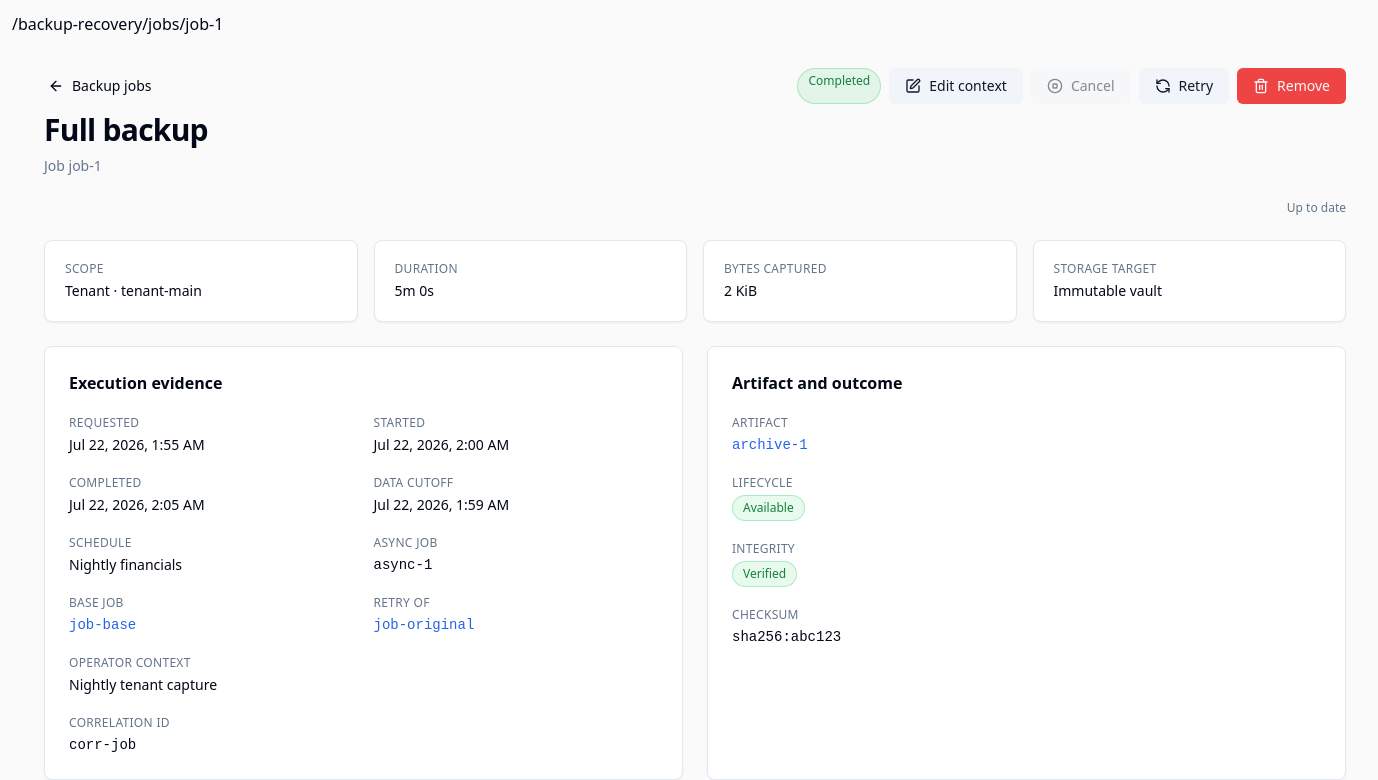
BackupJobDetailPage › renders job evidence, command authorization, and routes linked records
This screenshot has width=1378, height=780.
Expected: the heading "Full backup" is shown, [44,112,208,148]
Expected: the text "Immutable vault" is shown, [1054,281,1162,300]
Step 1. Click the button "Retry" → (1184, 86), box [1138,68,1229,104]
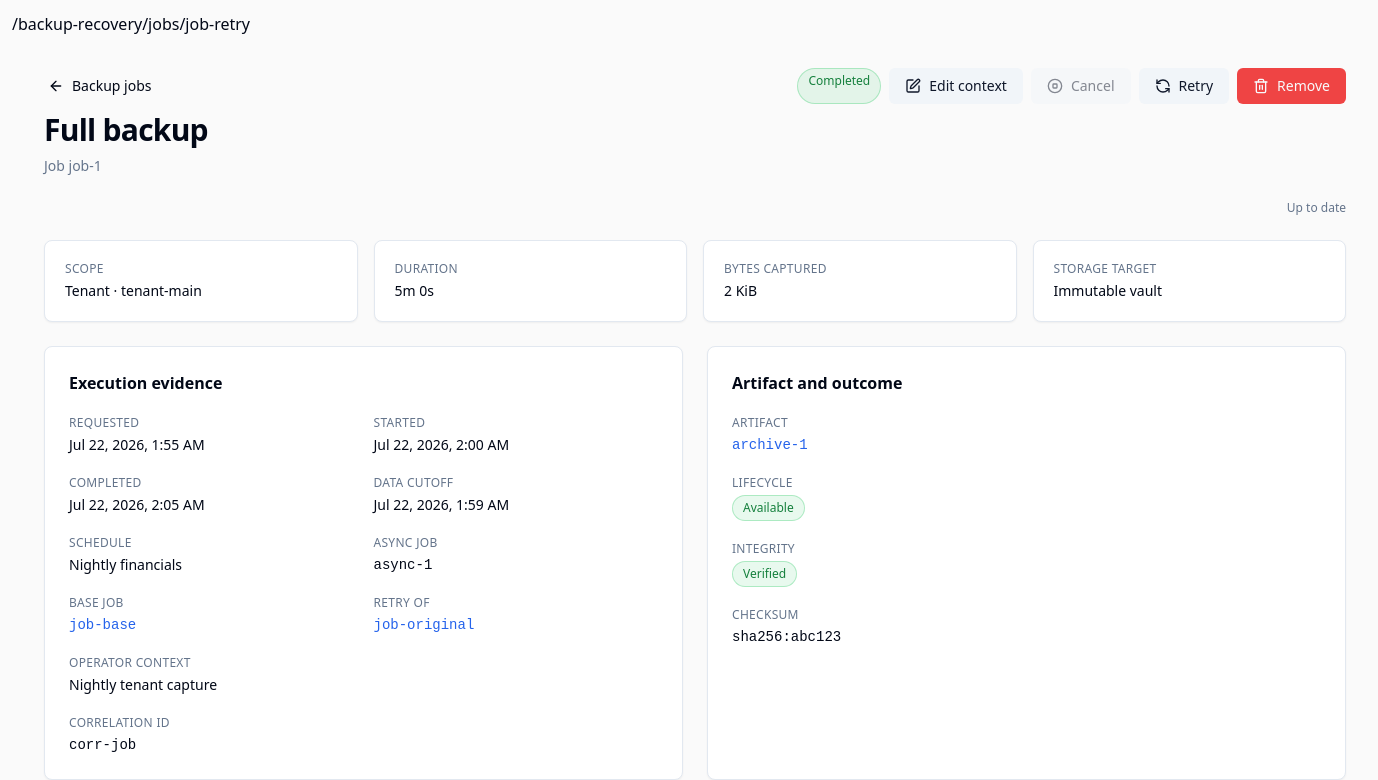
Result: the text named "Current route" reads "/backup-recovery/jobs/job-retry" at [12,13,250,35]
